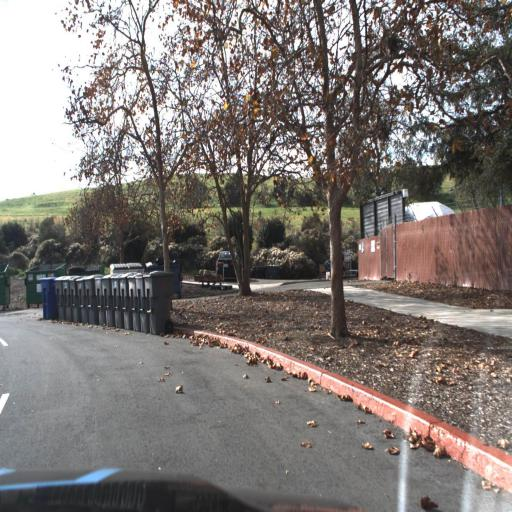car: (210, 248, 237, 285)
